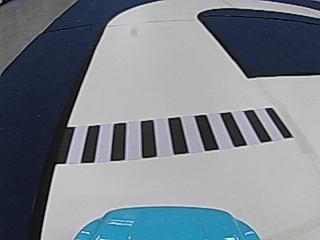CrossWalk: (60, 106, 291, 165)
